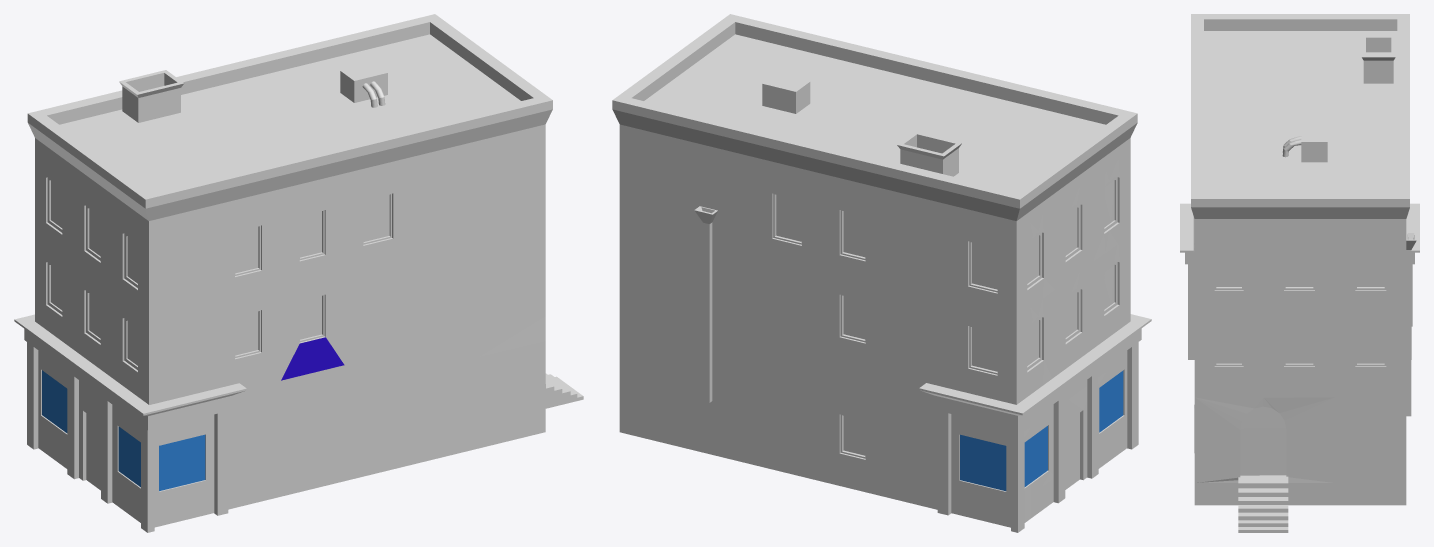
The model's file is edificio6.fbx.
The picture shows the model from 3 angles, left to right: view 1: azimuth 30°, elevation 25°; view 2: azimuth 150°, elevation 25°; view 3: azimuth 270°, elevation 25°; orthographic projection. The views are drawn at different scales.
Parts seen in each view (by area): view 1: Cube, Cube.001; view 2: Cube, Cube.001; view 3: Cube, Cube.001.
Boxes of the visible parts, left/top/right/bottom form: Cube: left=14, top=14, right=583, bottom=532; Cube.001: left=42, top=180, right=389, bottom=491; Cube: left=612, top=14, right=1151, bottom=532; Cube.001: left=776, top=179, right=1123, bottom=491; Cube: left=1180, top=14, right=1419, bottom=532; Cube.001: left=1216, top=249, right=1384, bottom=363.
Size of the model in its own units: 765 by 542 by 362.
